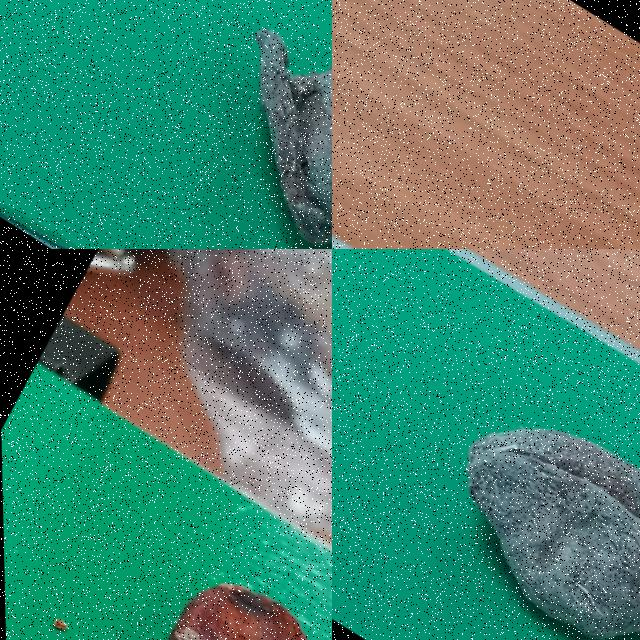Agglomerated_cocoabeans: (338, 306, 639, 639), (55, 0, 331, 248)
Flat_cocoabeans: (29, 489, 331, 639)
